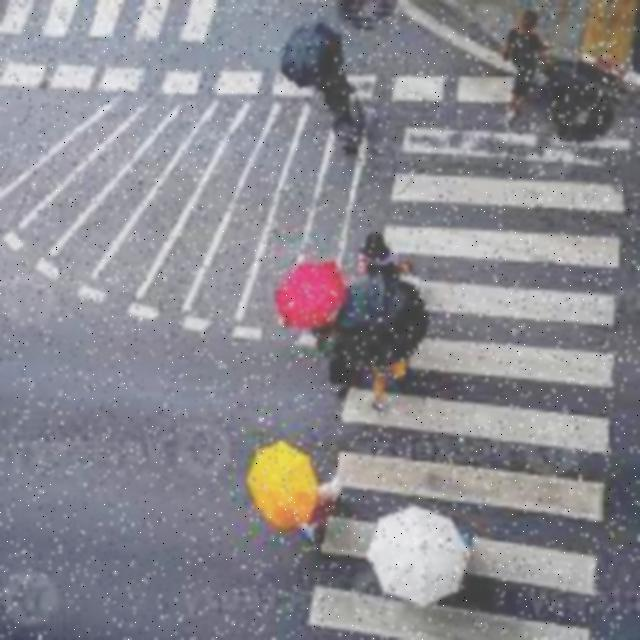Pedestrian crosswalk: (269, 91, 640, 639)
